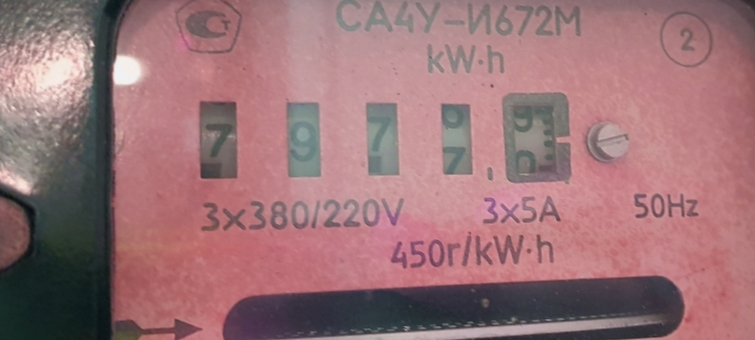0: (513, 147, 538, 177)
7: (201, 118, 237, 165), (440, 138, 472, 181), (366, 113, 397, 156)
9: (287, 118, 320, 167), (510, 103, 541, 137)
screen: (183, 69, 591, 218)
